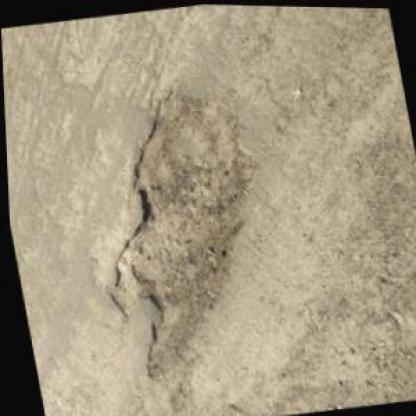pothole: (66, 66, 301, 386)
